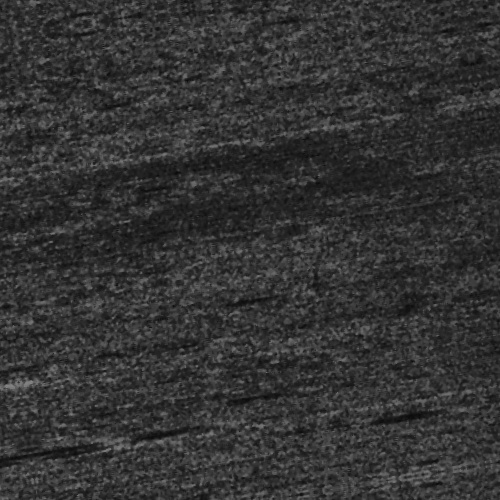object: (170, 413, 233, 418), (55, 411, 108, 416), (66, 417, 119, 422), (414, 436, 455, 439)
shadow: (127, 413, 201, 418), (19, 411, 81, 416), (30, 417, 92, 422), (345, 436, 434, 439)
